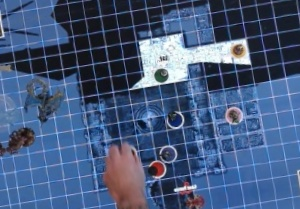blue: (163, 107, 189, 132)
green: (150, 65, 169, 84)
pink: (221, 103, 245, 127)
red: (145, 156, 168, 181)
violet: (158, 140, 180, 162)
yellow: (227, 40, 245, 59)
